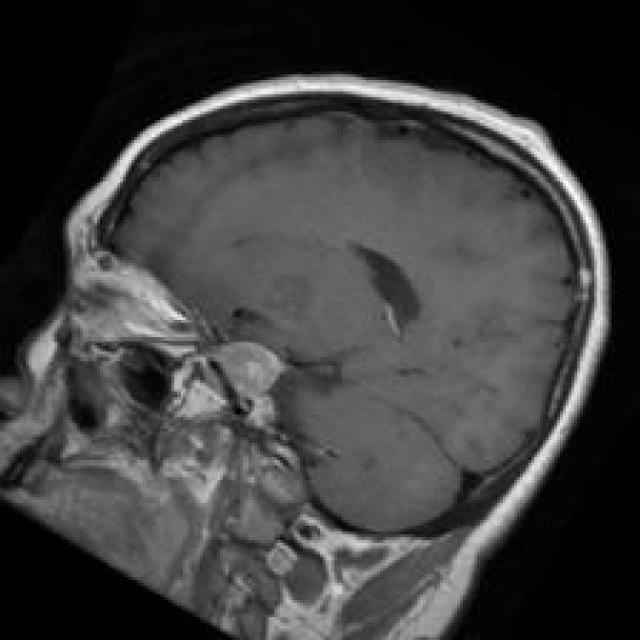pituitary_tumor: (192, 326, 302, 406)
